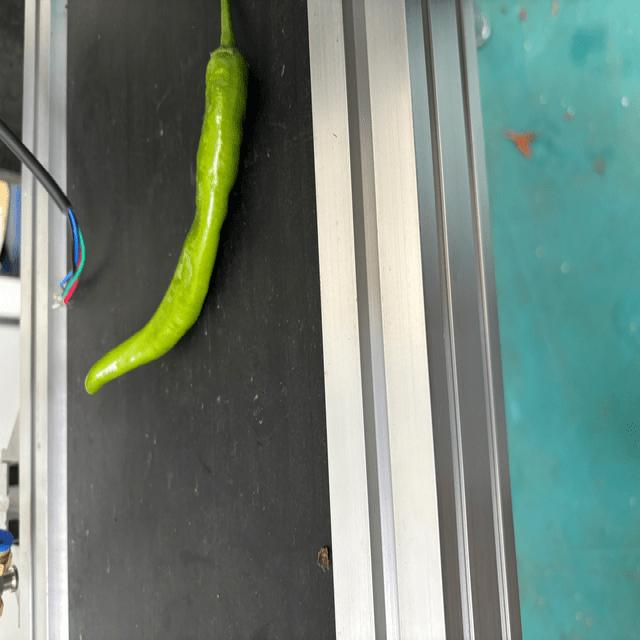chili: (83, 45, 250, 396)
